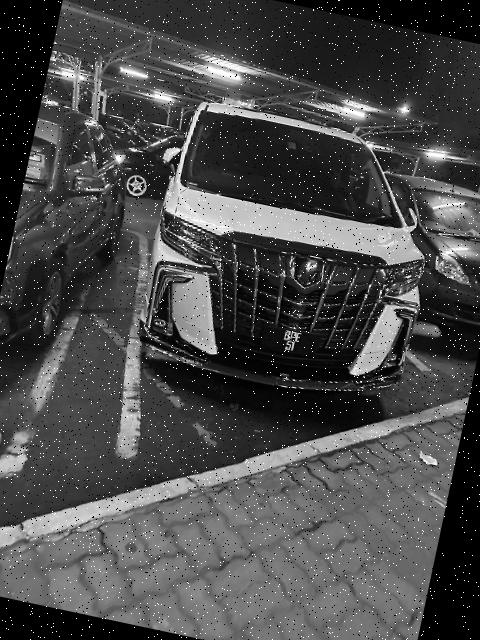License_Plate: (262, 322, 326, 364)
car: (122, 94, 466, 425)
